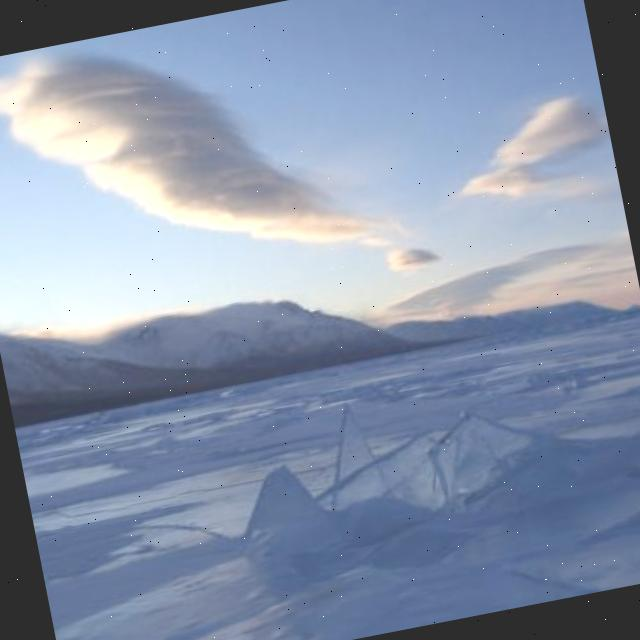St: (1, 1, 406, 323)
